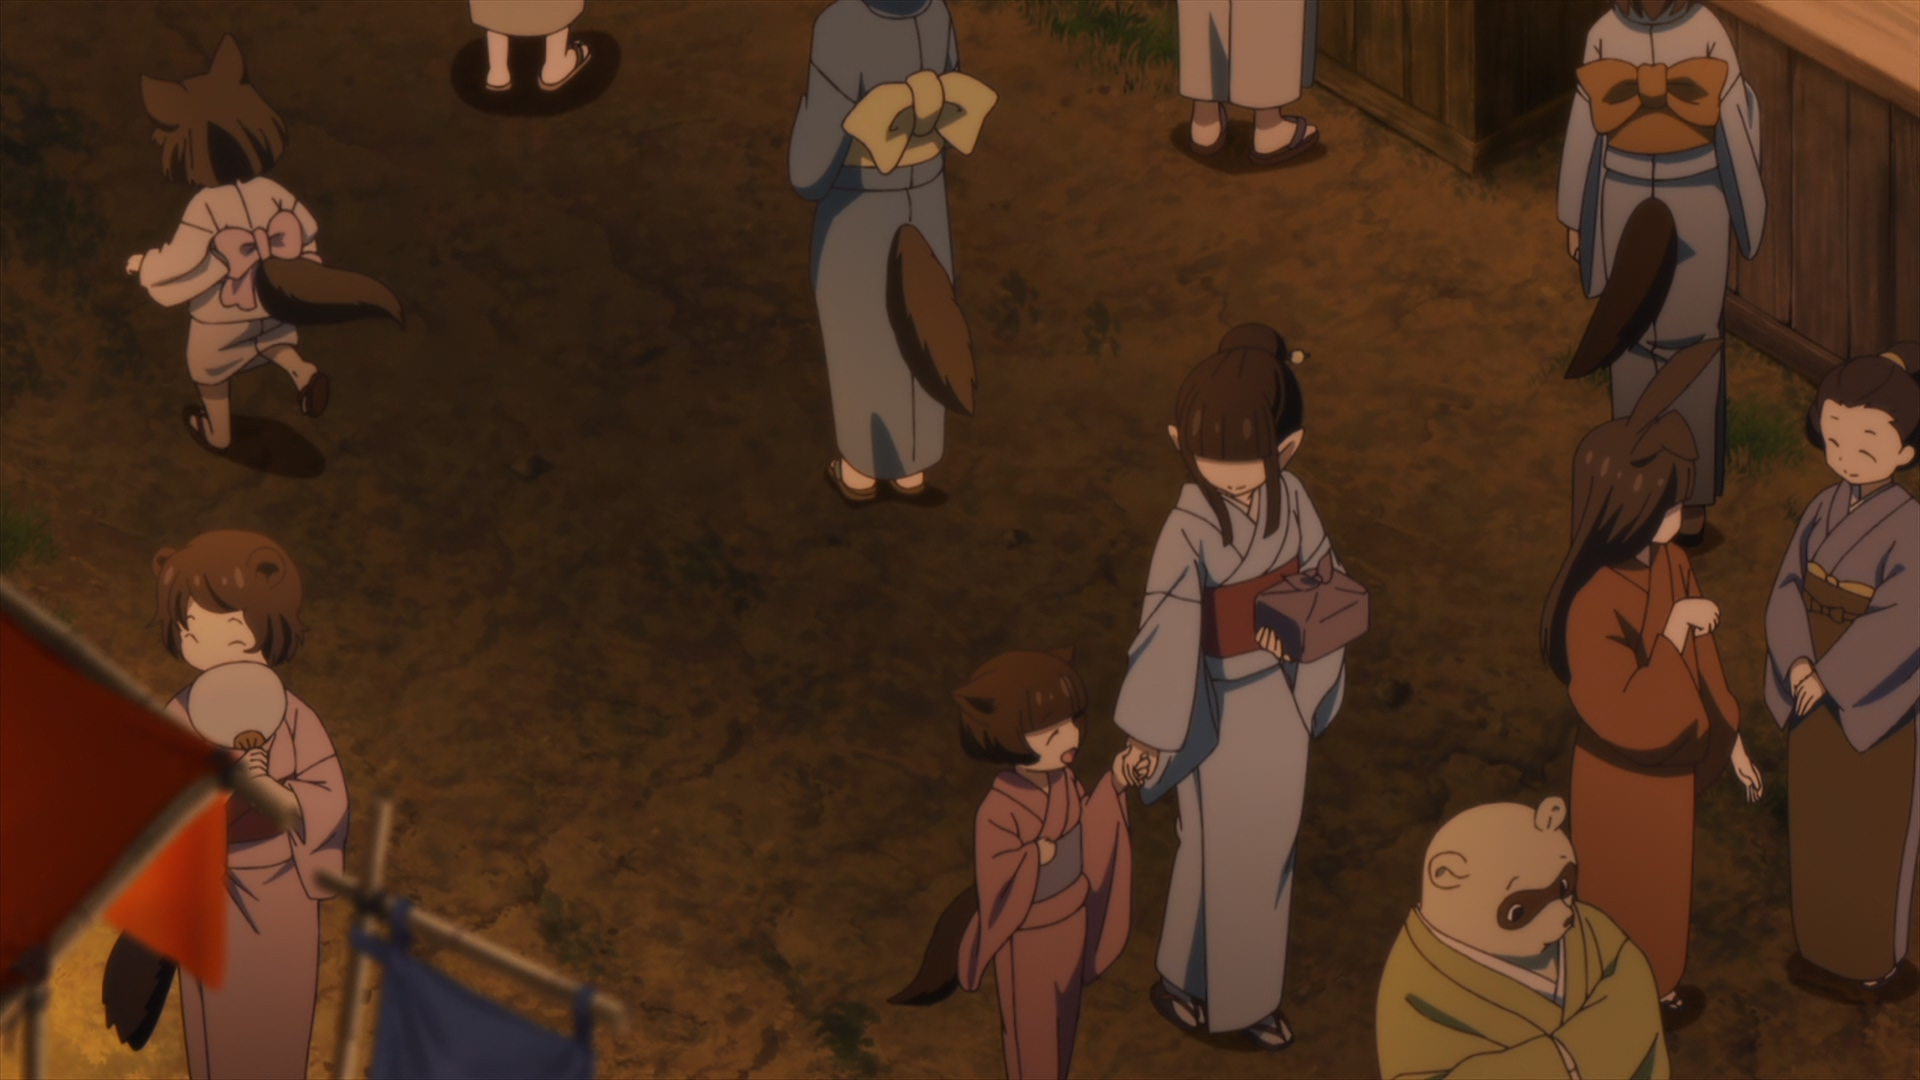其他: (1113, 323, 1370, 1058), (1538, 342, 1764, 1015), (102, 527, 349, 1076), (124, 33, 405, 455), (1557, 1, 1770, 553), (886, 644, 1149, 1080), (787, 1, 1000, 505), (1762, 349, 1920, 992), (1374, 796, 1668, 1080), (1176, 1, 1324, 171), (465, 1, 597, 98)
